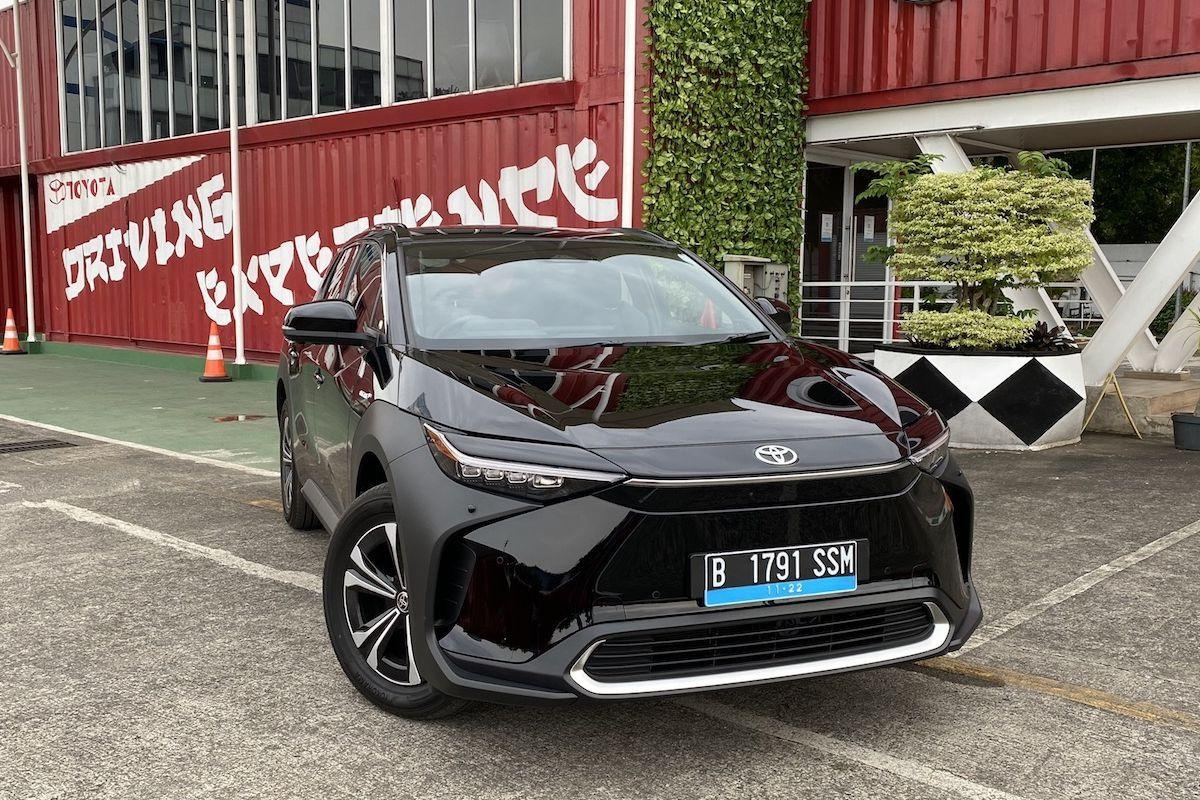plate: (707, 535, 865, 615)
